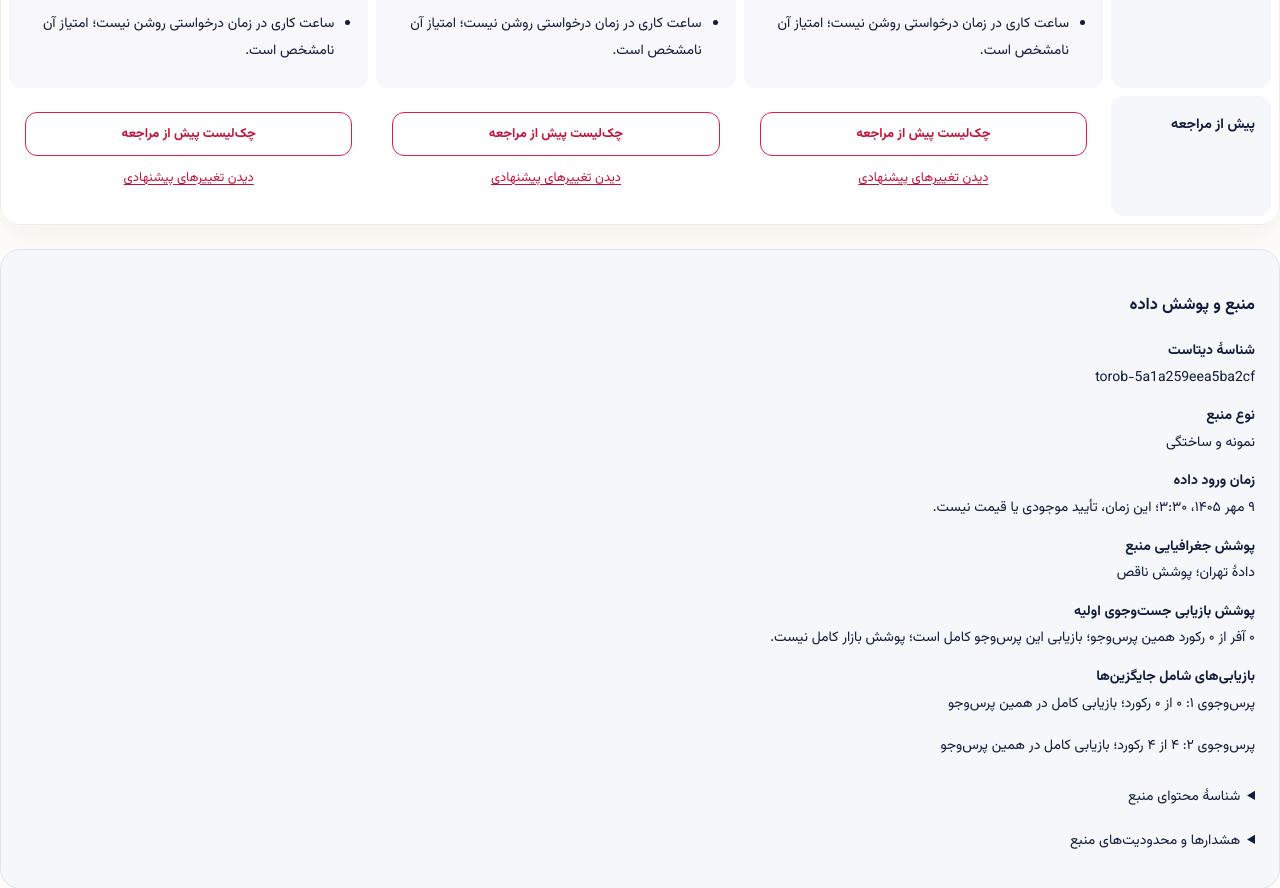
displays recorded monetary digits without extra fractional rounding and keeps source warnings available
(page scrolled)
Click the heading "هشدارها و محدودیت‌های منبع" at point(1155, 841), box [1070,830,1240,852]
(page scrolled)
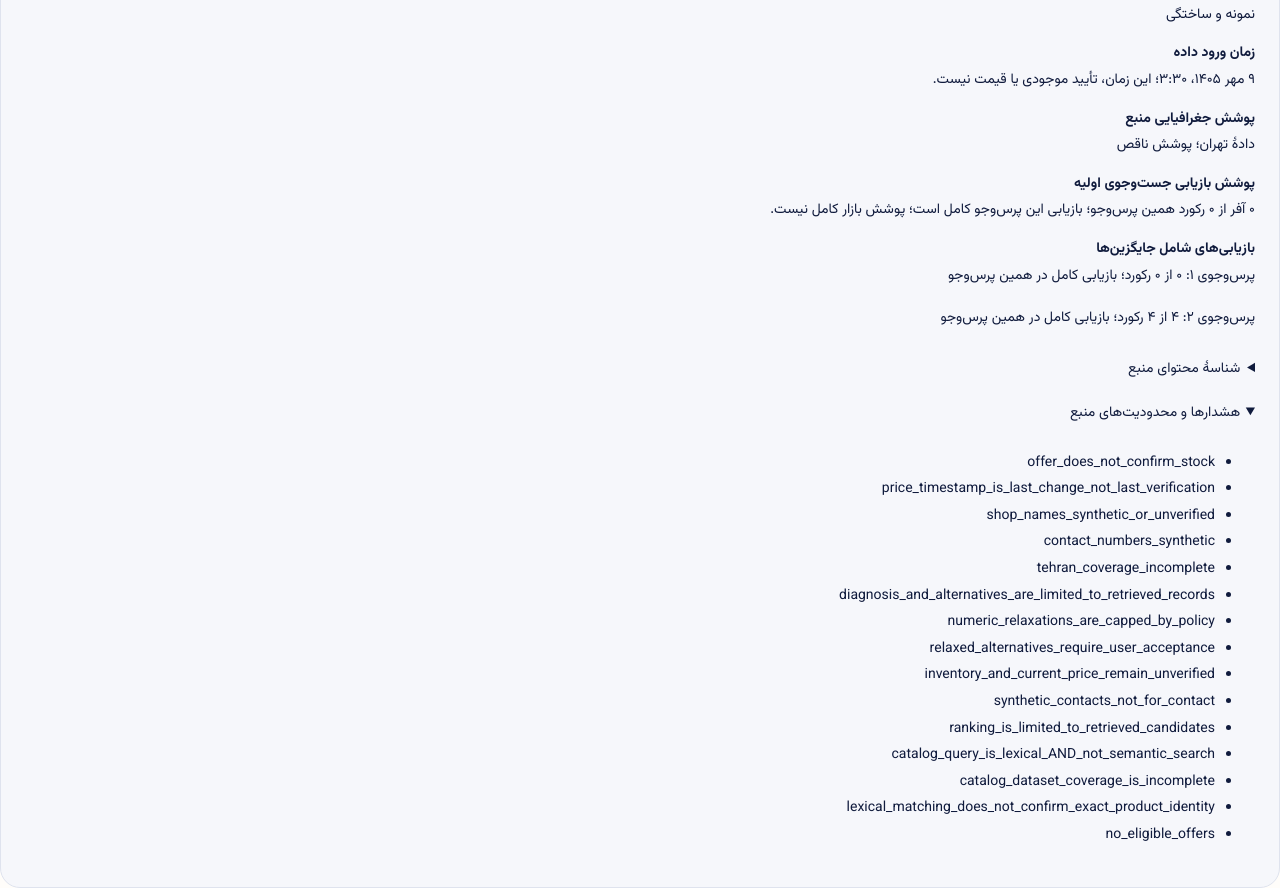
Now the list item "offer_does_not_confirm_stock" is shown, box [1027,452,1215,474]
Now the list item "price_timestamp_is_last_change_not_last_verification" is shown, box [882,478,1215,500]
Now the list item "shop_names_synthetic_or_unverified" is shown, box [986,505,1215,527]
